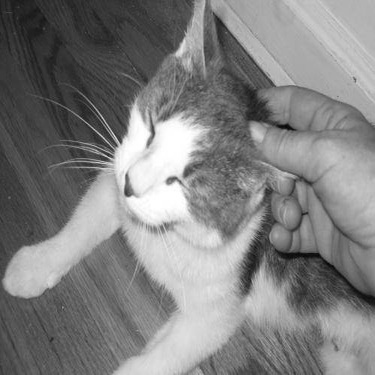cat: (7, 23, 369, 364)
